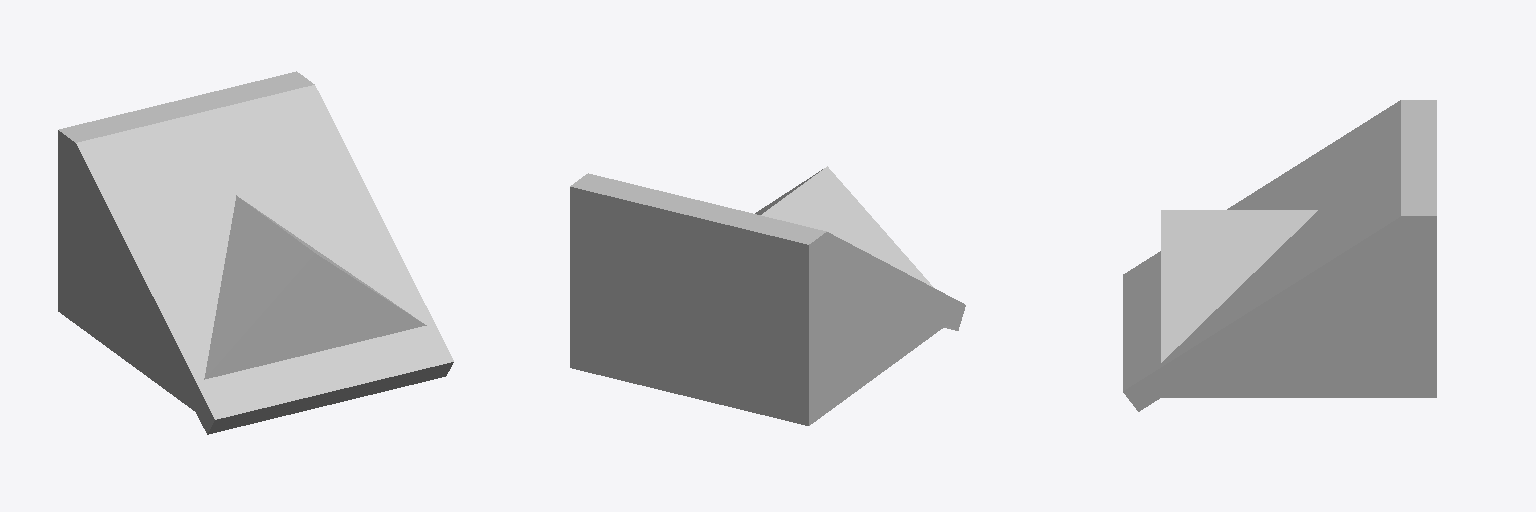
The model's file is roof-slanted-detail.obj.
3 views of the same model, side by side, from view 1: azimuth 30°, elevation 25°; view 2: azimuth 150°, elevation 25°; view 3: azimuth 270°, elevation 25° (orthographic).
Parts seen in each view (by area): view 1: roof-slanted-detail; view 2: roof-slanted-detail; view 3: roof-slanted-detail.
Part boxes in pixels (x1,y1,x2,y2): roof-slanted-detail: (58,71,453,434); roof-slanted-detail: (570,166,965,425); roof-slanted-detail: (1123,100,1436,411).
Bounding box in the file's own units: 1 × 0.782 × 1.14.